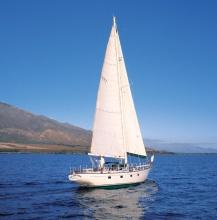fanchuan: (69, 13, 152, 191)
